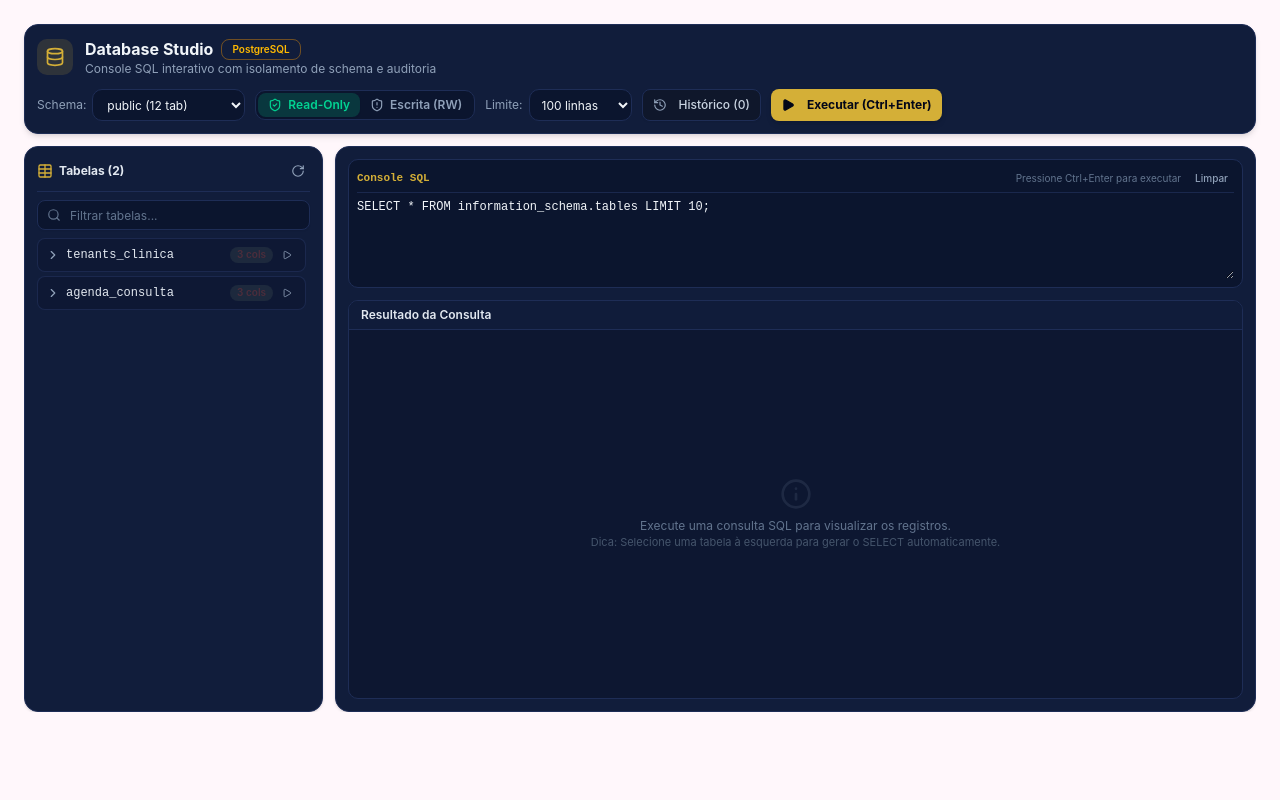
Sprint V8 — Frontend: Database Studio & Celery Monitor › Database Studio (SQL Console & Schema Explorer) › deve executar consulta SQL em modo Read-Only e exibir tabela de resultados
The image size is (1280, 800).
Click the button "Executar (Ctrl+Enter)": click(856, 105) [771,89,942,121]
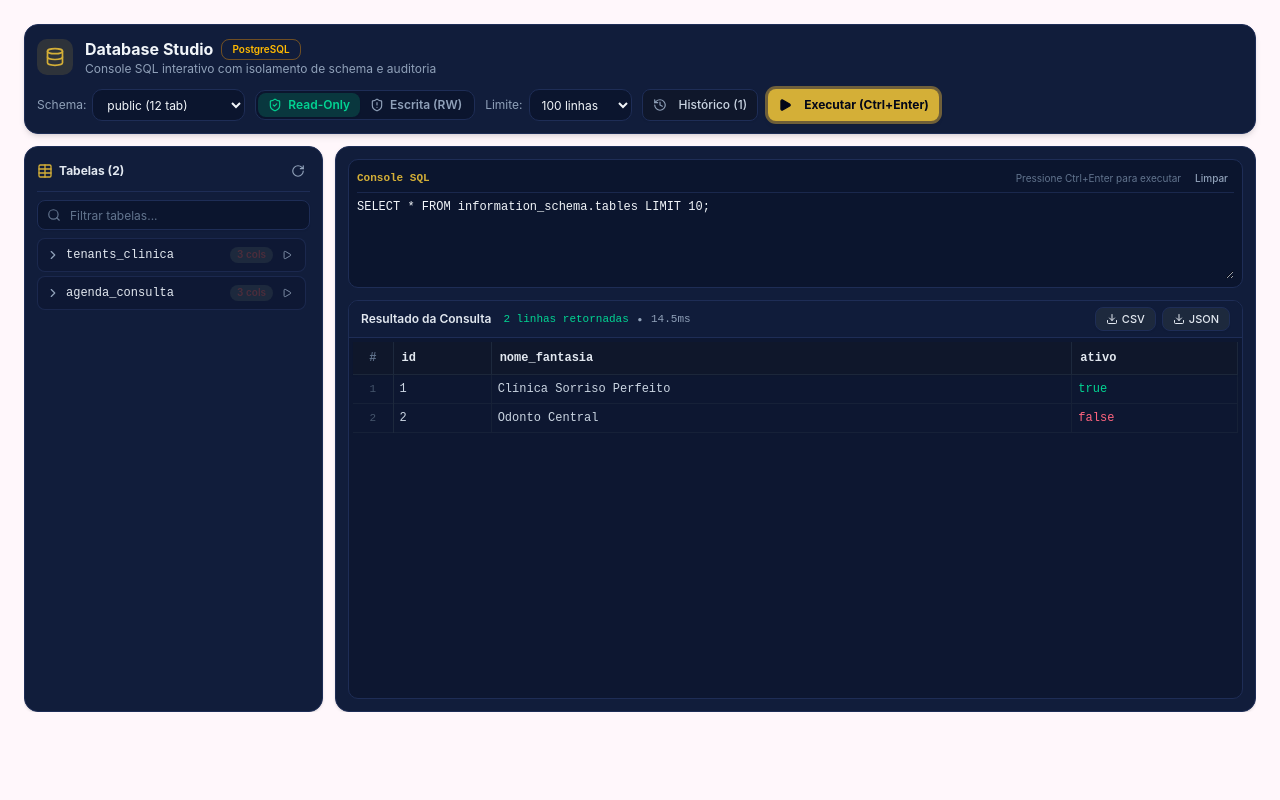
Expected: the text "2 linhas retornadas" is shown, [503,312,629,326]
Expected: the text "Clínica Sorriso Perfeito" is shown, [491,374,1072,404]
Expected: the text "Odonto Central" is shown, [491,404,1072,432]
